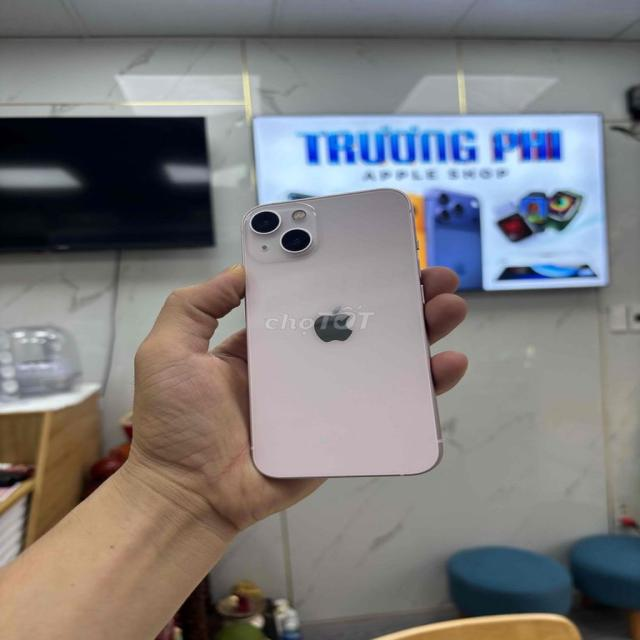gen_12_13: (237, 188, 444, 479)
